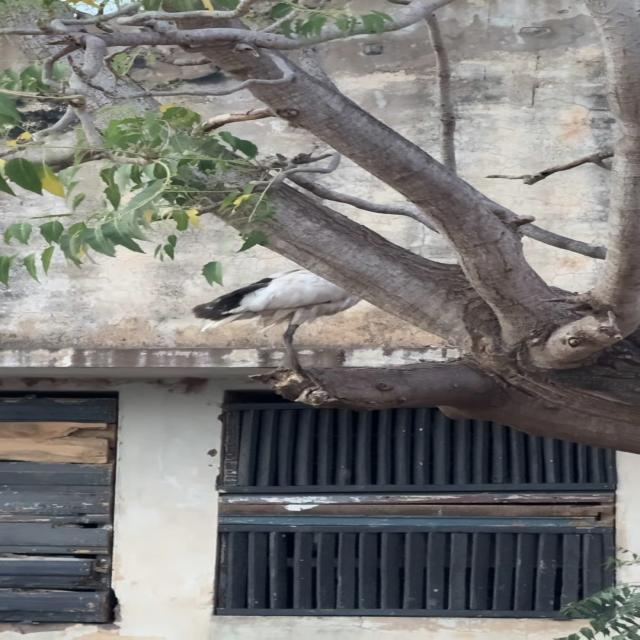Birds-Ibis: (187, 265, 367, 387)
